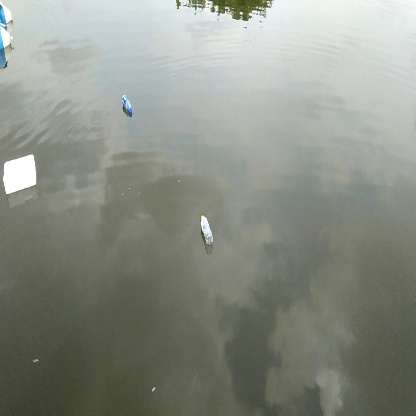bottle: (196, 212, 218, 247), (119, 90, 138, 117)
plastic-garbage: (1, 150, 41, 196)
